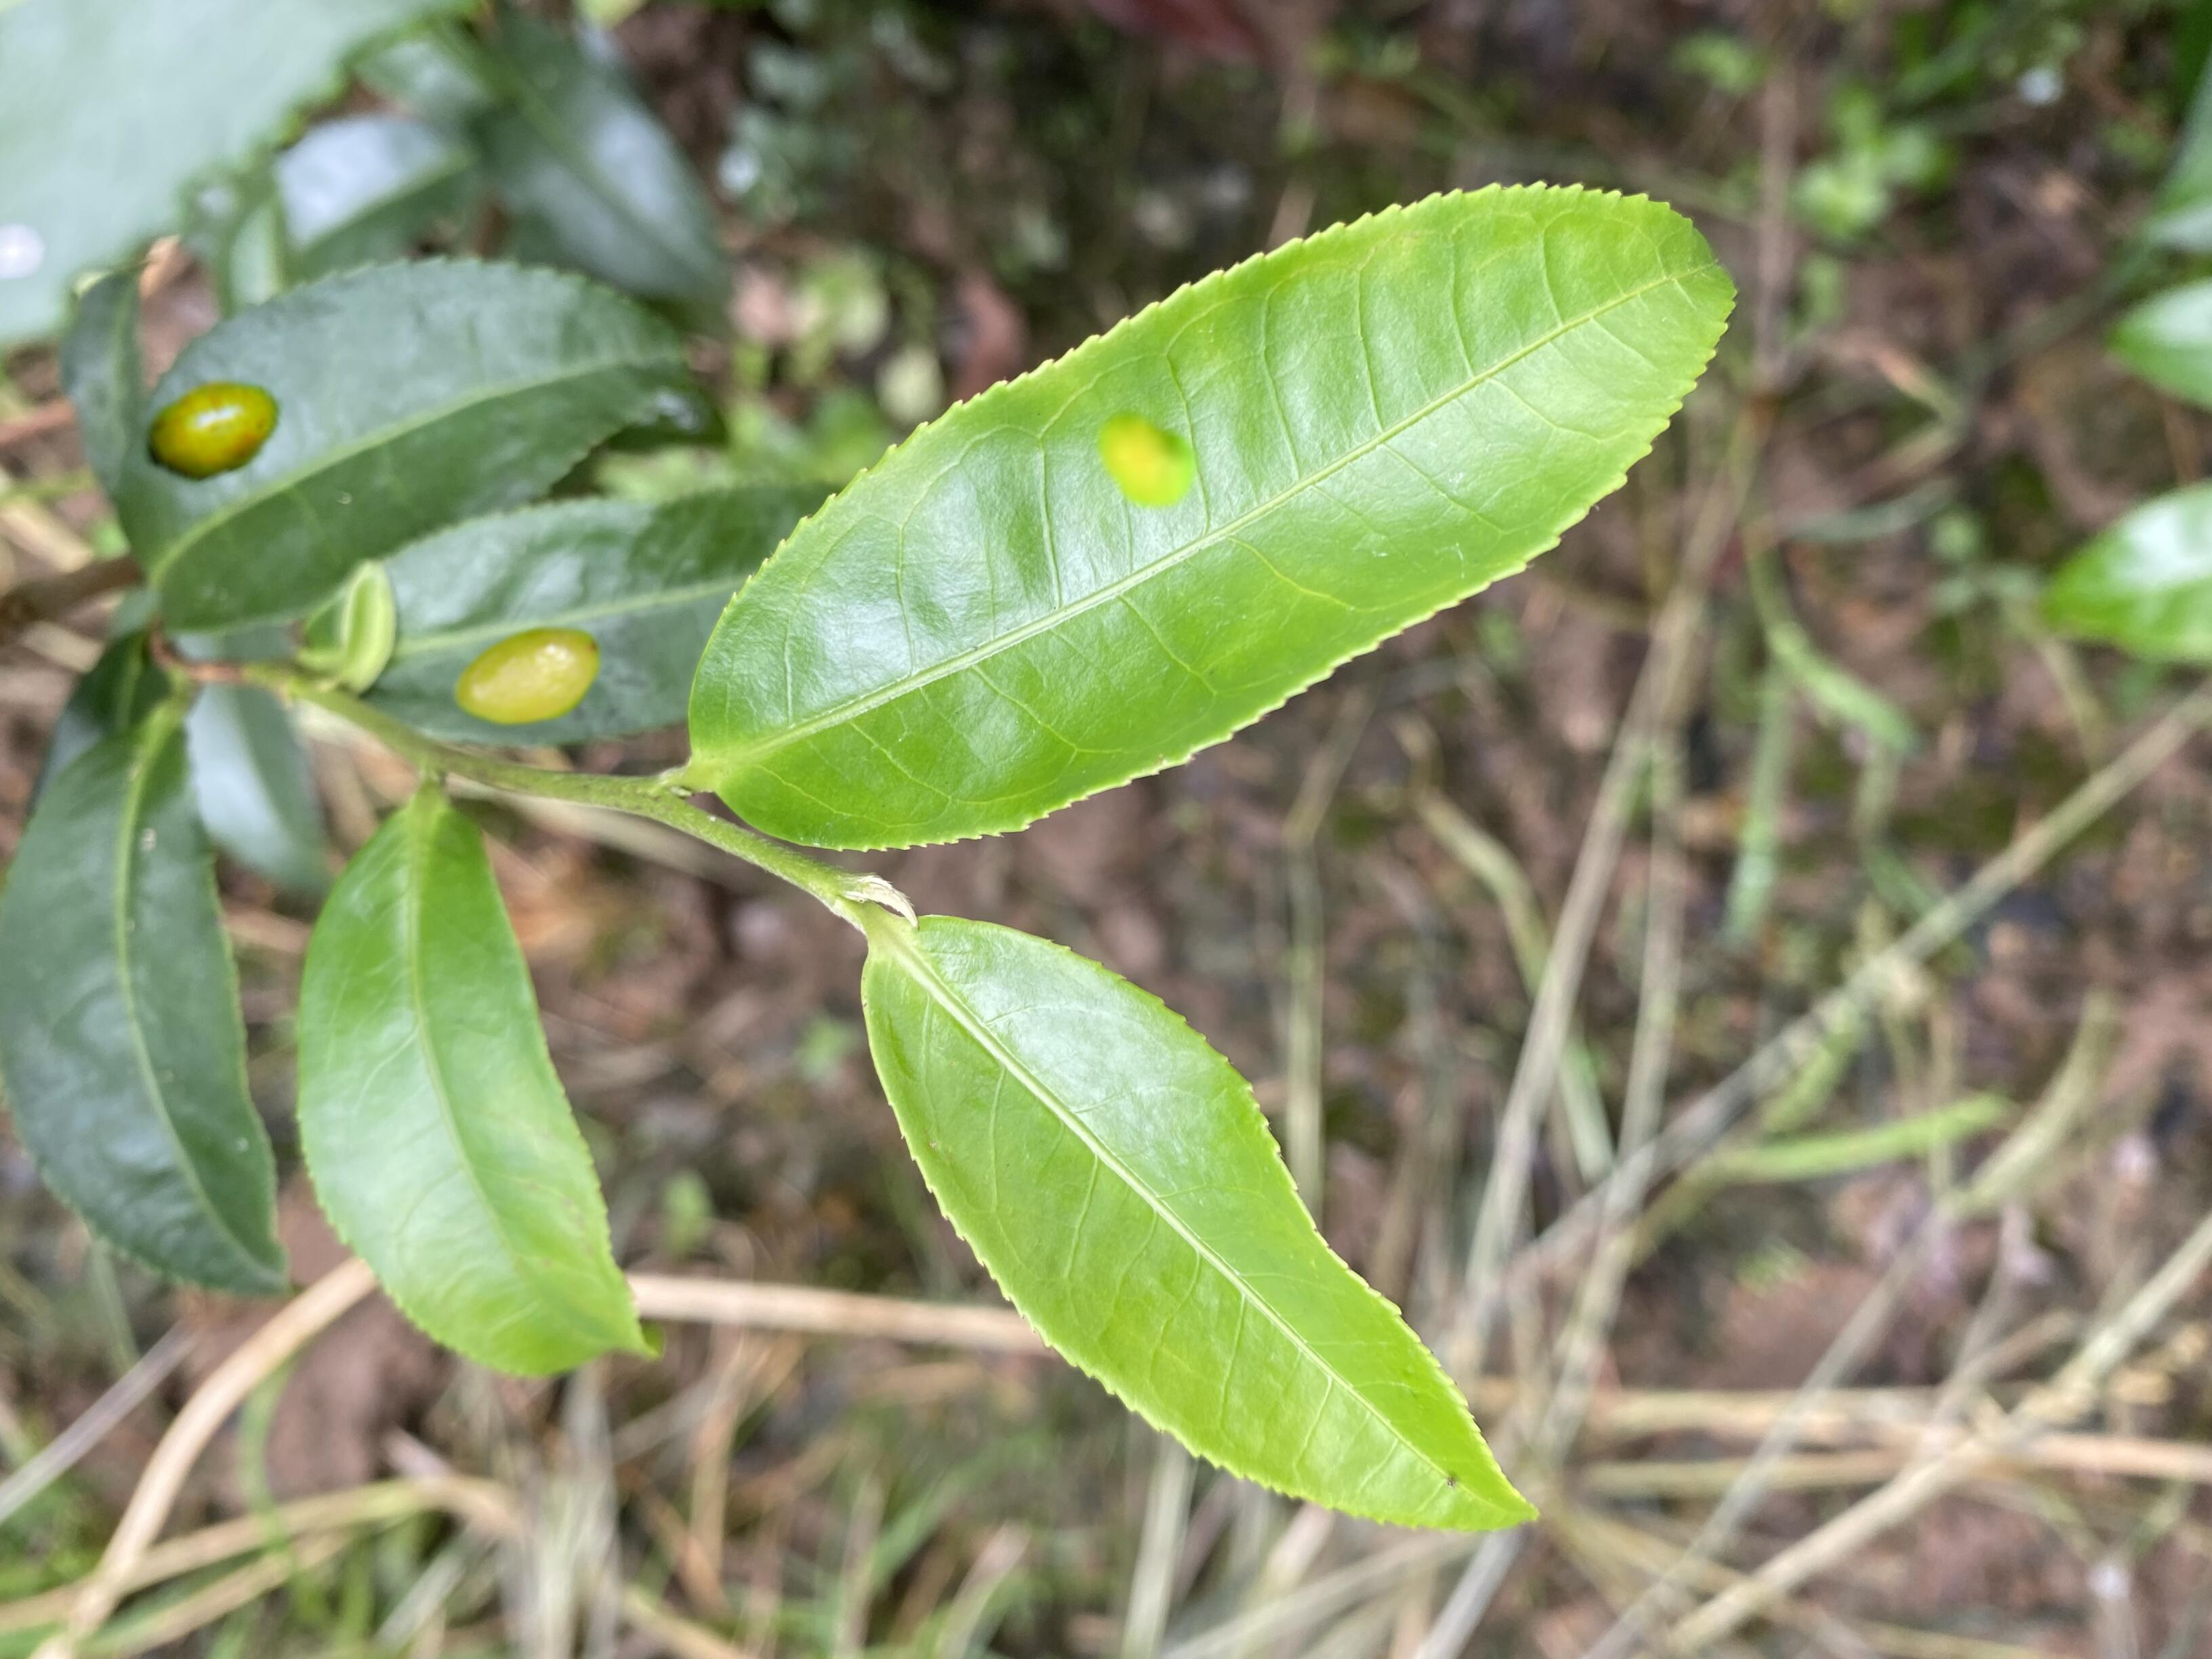chabing_low: (691, 178, 1742, 852), (120, 253, 683, 636), (310, 483, 855, 749)
healthy: (859, 913, 1540, 1535), (296, 791, 657, 1380), (3, 708, 296, 1293)
